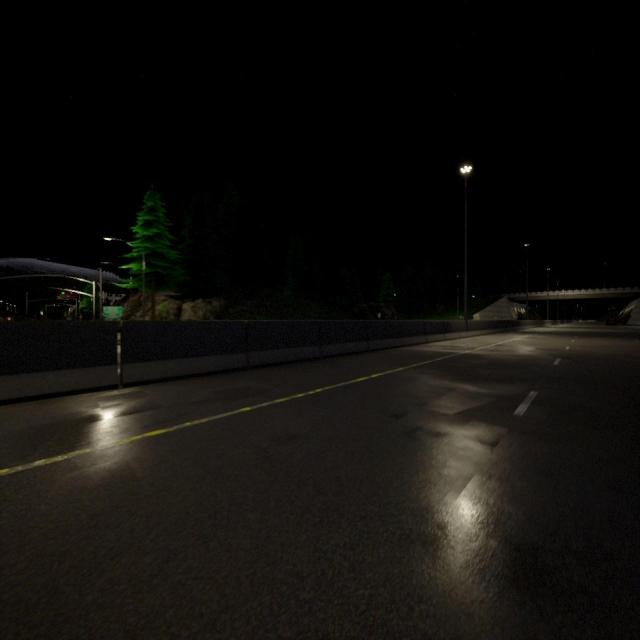Traffic_Signs: (377, 312, 381, 318)
Vehicle: (605, 317, 618, 326)
traffic_light: (61, 289, 65, 295)
